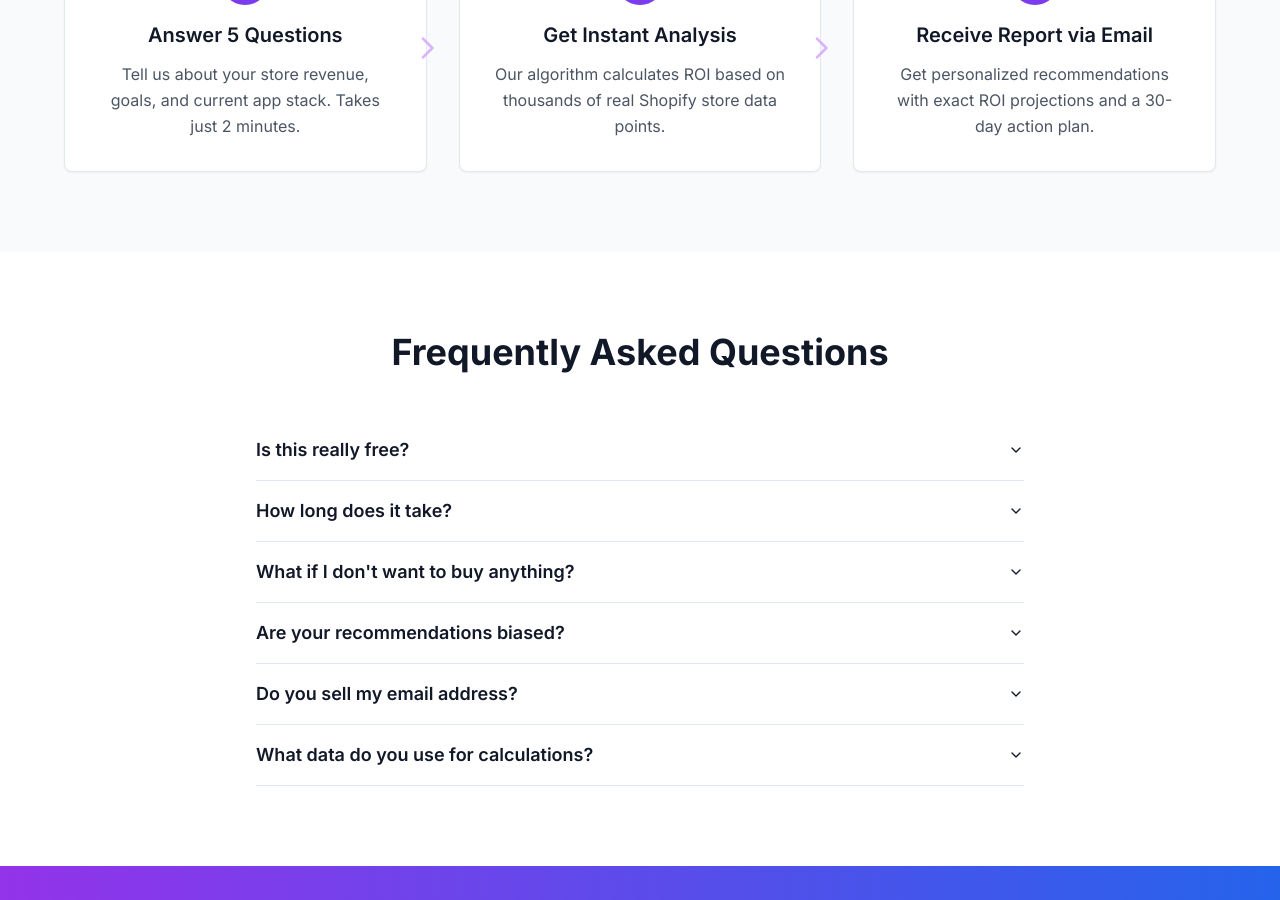
it: Landing Page Integration › FAQ accordion expands and collapses
(page scrolled)
Expected: the text "we earn a small commission" is not shown
Click to expand
Click the button "Is this really free?".
click(333, 450)  # box [256, 420, 1024, 480]
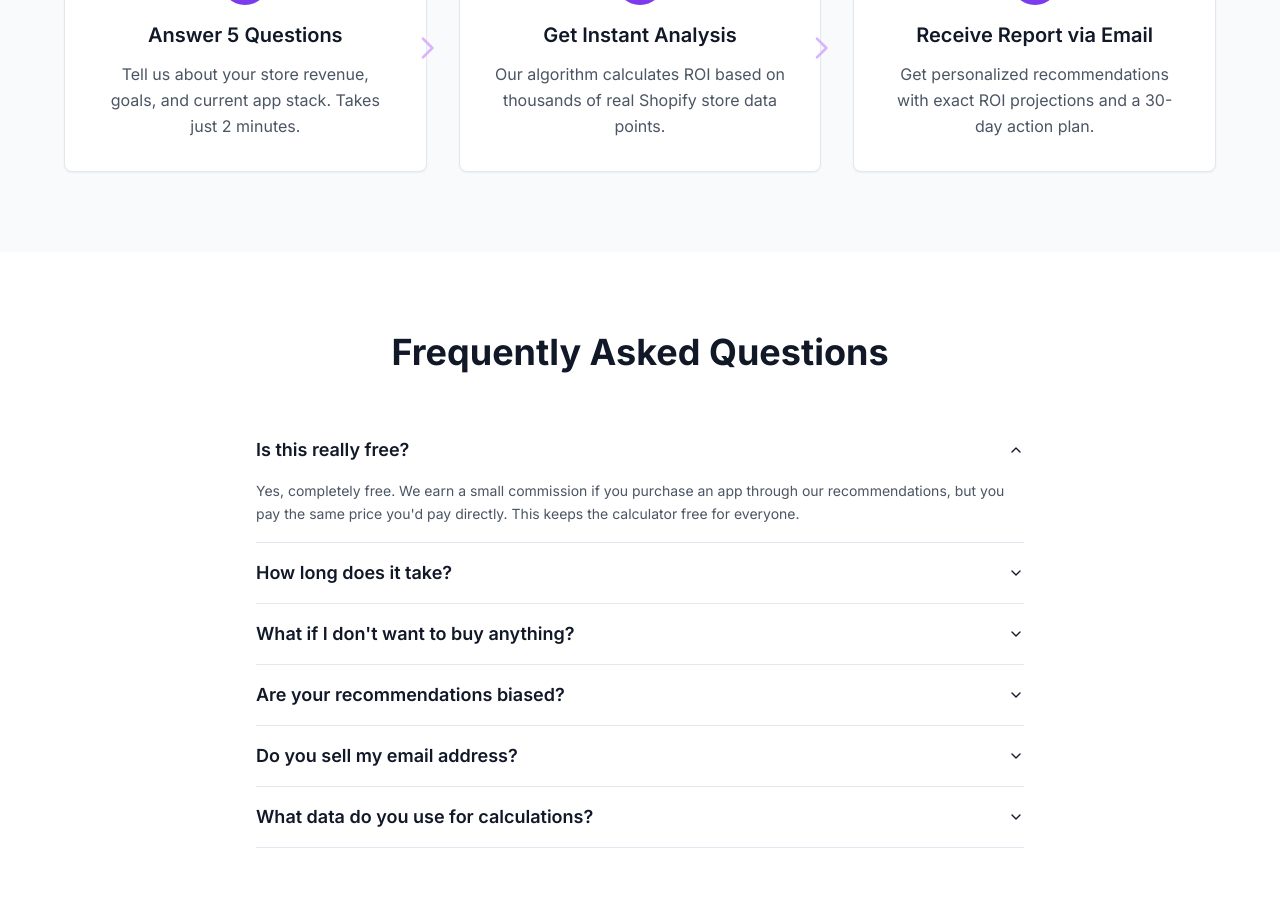
Expected: the text "We earn a small commission" is shown, [256, 482, 1004, 522]
Click to collapse
Click the button "Is this really free?".
click(333, 450)  # box [256, 420, 1024, 480]
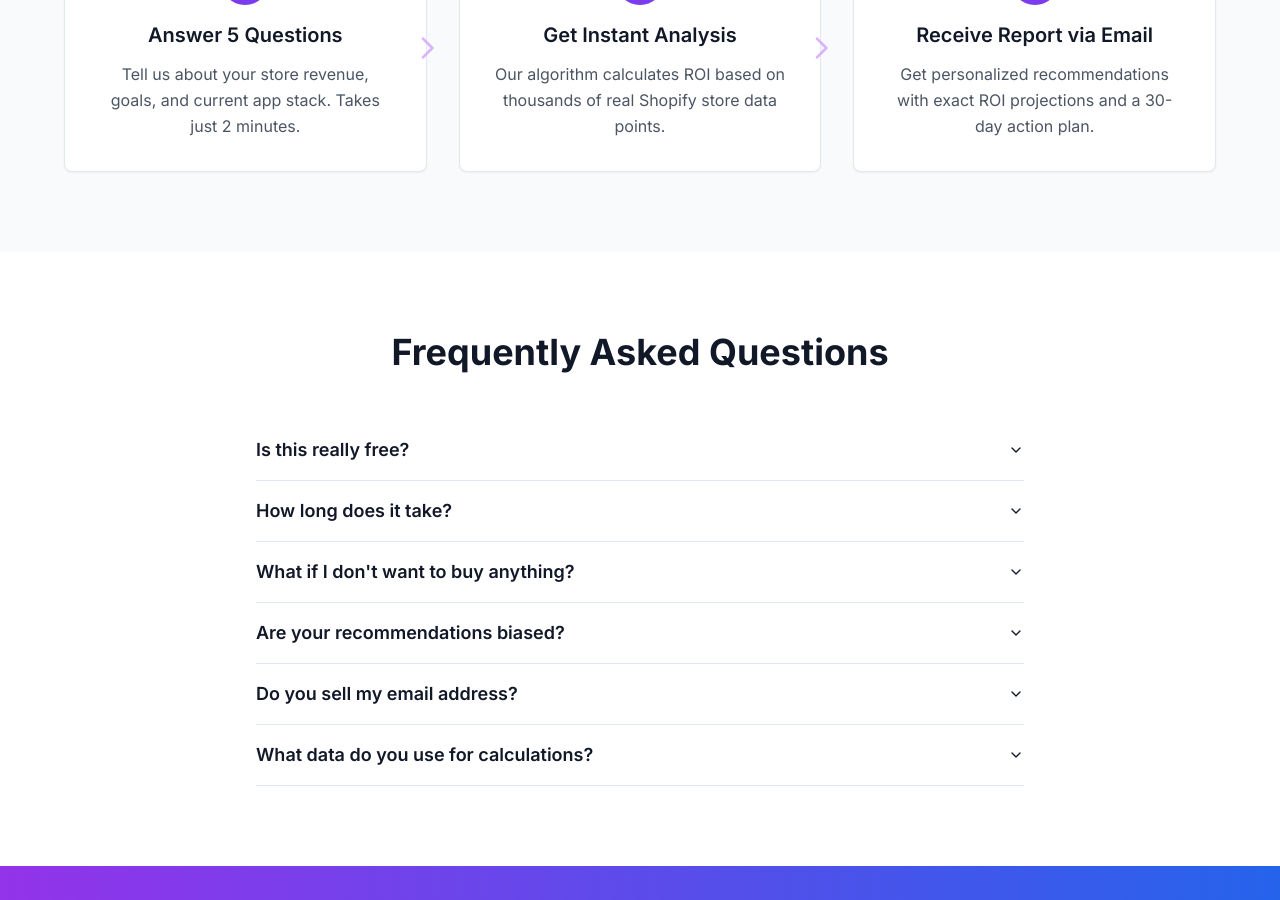
Expected: the text "We earn a small commission" is gone
